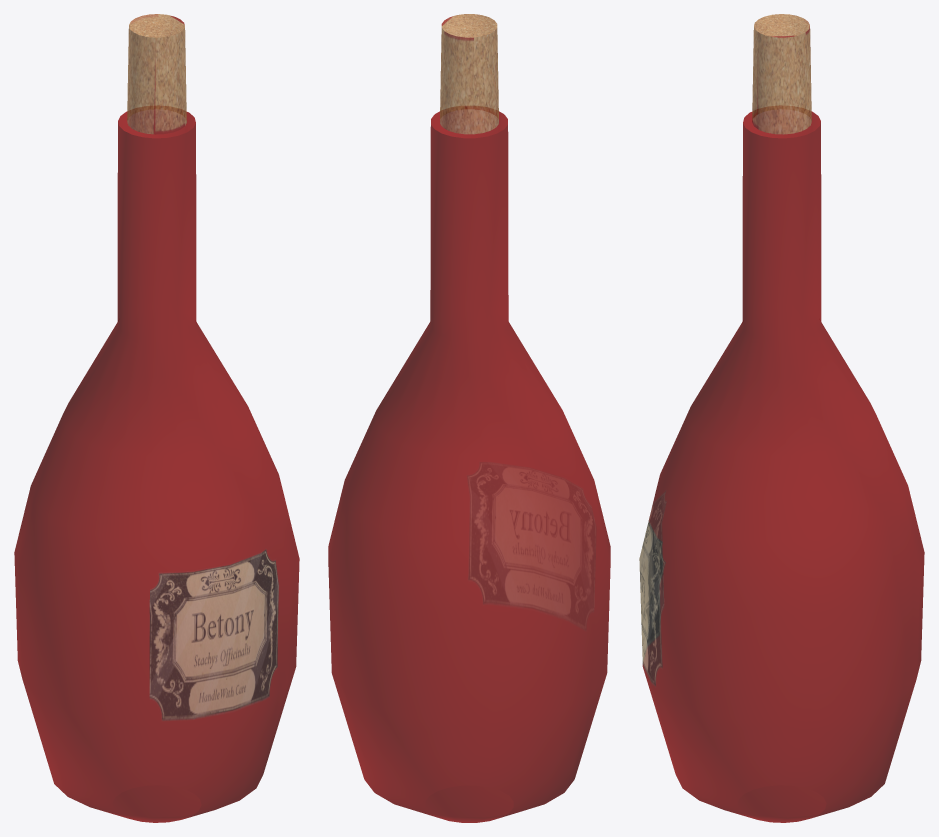
The model's file is Potion Bottle red.fbx.
The picture shows the model from 3 angles, left to right: view 1: azimuth 30°, elevation 25°; view 2: azimuth 150°, elevation 25°; view 3: azimuth 270°, elevation 25°; orthographic projection.
Parts seen in each view (by area): view 1: pasted__pCylinder9; view 2: pasted__pCylinder9; view 3: pasted__pCylinder9.
Part boxes in pixels (x1,y1,x2,y2): pasted__pCylinder9: (14, 14, 299, 822); pasted__pCylinder9: (328, 14, 610, 822); pasted__pCylinder9: (639, 14, 924, 822).
Size of the model in its own units: 0.3908 by 1.18 by 0.3908.
1 material, 1 textured.
